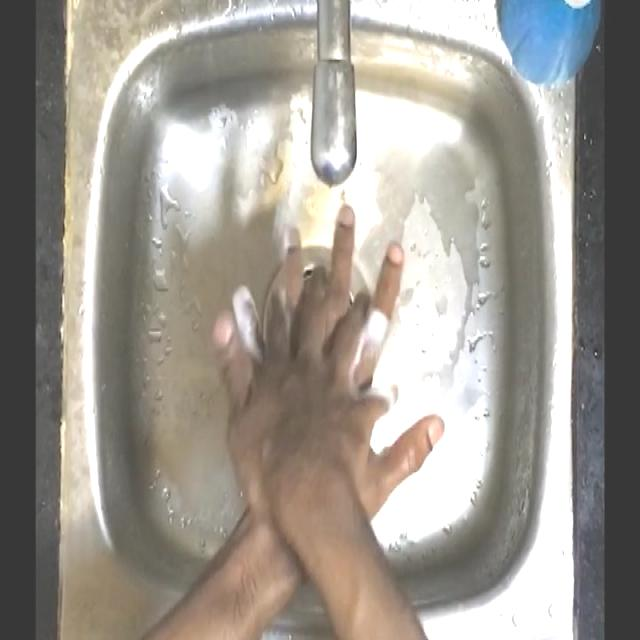step_2: (207, 200, 454, 528)
